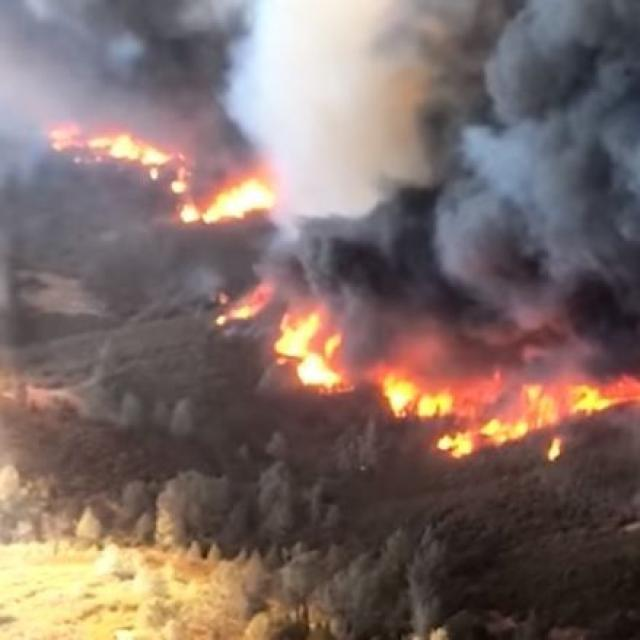Fire: (31, 100, 640, 524)
Smoke: (15, 0, 640, 388)
